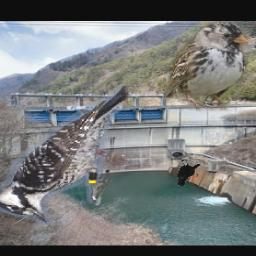Crow: (176, 160, 201, 187)
Sparrow: (165, 21, 249, 111)
Woodpecker: (0, 87, 129, 224)
